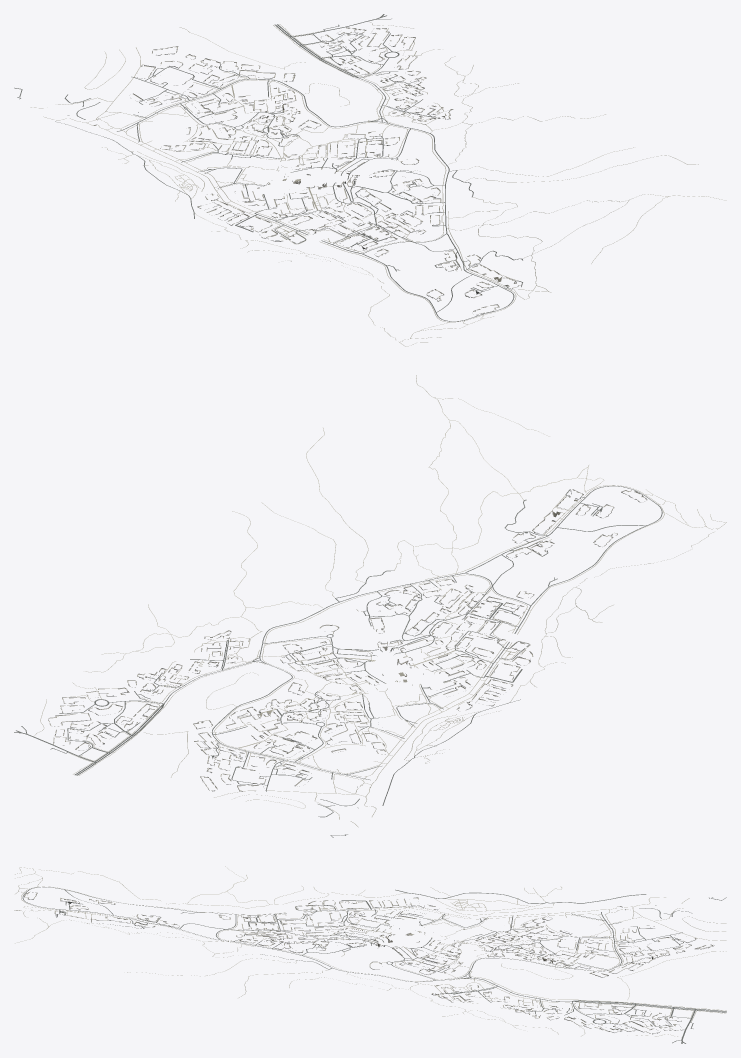
3 views of the same model, one above another, from view 1: azimuth 30°, elevation 25°; view 2: azimuth 150°, elevation 25°; view 3: azimuth 270°, elevation 25° (orthographic). The views are drawn at different scales.
Visible parts, largest first — view 1: snu-paving-overlay, snu-asphalt-overlay, snu-stonebank, snu-paving; view 2: snu-paving-overlay, snu-asphalt-overlay, snu-stonebank, snu-paving; view 3: snu-paving-overlay, snu-asphalt-overlay, snu-stonebank, snu-paving, site-concrete.
Boxes of the visible parts, x1,y1,x2,y2 form: snu-paving-overlay: (30, 21, 726, 346); snu-asphalt-overlay: (14, 14, 522, 321); snu-stonebank: (133, 27, 522, 315); snu-paving: (133, 27, 522, 314); snu-paving-overlay: (34, 375, 726, 827); snu-asphalt-overlay: (14, 485, 662, 837); snu-stonebank: (48, 489, 647, 791); snu-paving: (48, 489, 646, 790); snu-paving-overlay: (14, 866, 726, 1037); snu-asphalt-overlay: (22, 887, 726, 1043); snu-stonebank: (24, 892, 714, 1034); snu-paving: (24, 892, 712, 1033); site-concrete: (32, 892, 688, 1031).
Bounding box in the file's own units: 1298 × 370 × 2537.
